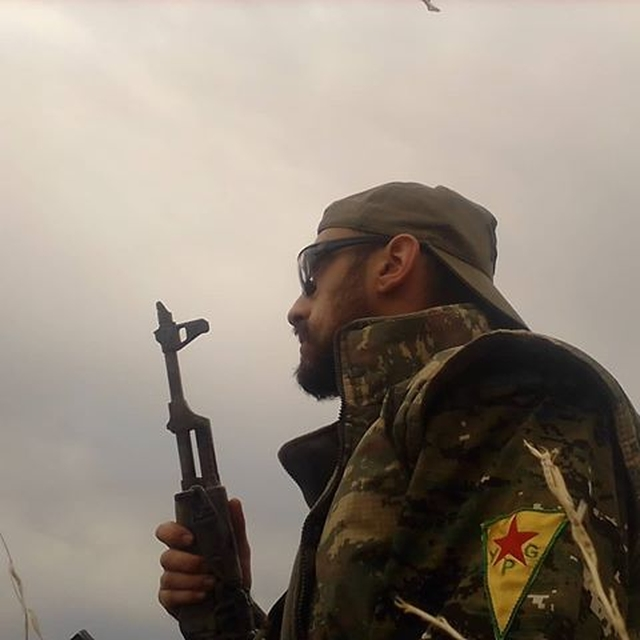YPG: (475, 508, 553, 581)
